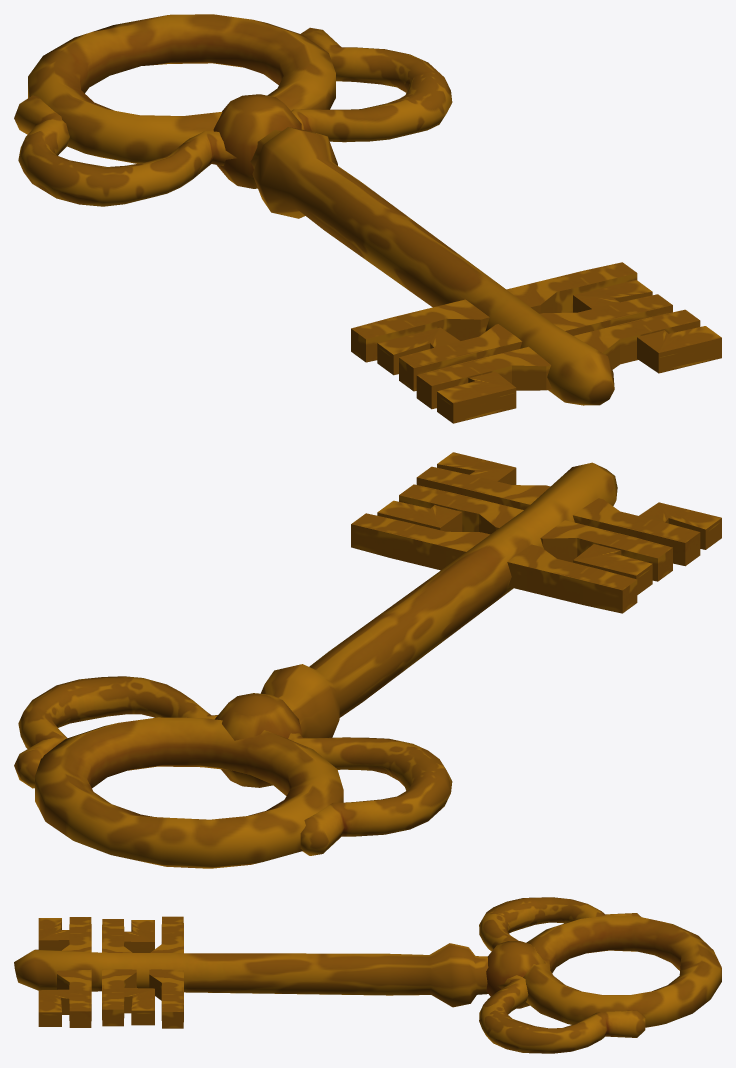
Rendered from key_gold.gltf.
3 views of the same model, one above another, from view 1: azimuth 30°, elevation 25°; view 2: azimuth 150°, elevation 25°; view 3: azimuth 270°, elevation 25° (orthographic). The views are drawn at different scales.
Parts seen in each view (by area): view 1: Key_Gold; view 2: Key_Gold; view 3: Key_Gold.
Boxes of the visible parts, box(x1,y1,x2,y2) form: Key_Gold: box(14, 14, 721, 423); Key_Gold: box(14, 452, 721, 868); Key_Gold: box(14, 897, 721, 1053).
Size of the model in its own units: 0.0581 by 0.0123 by 0.1223.
1 material, 1 textured.
